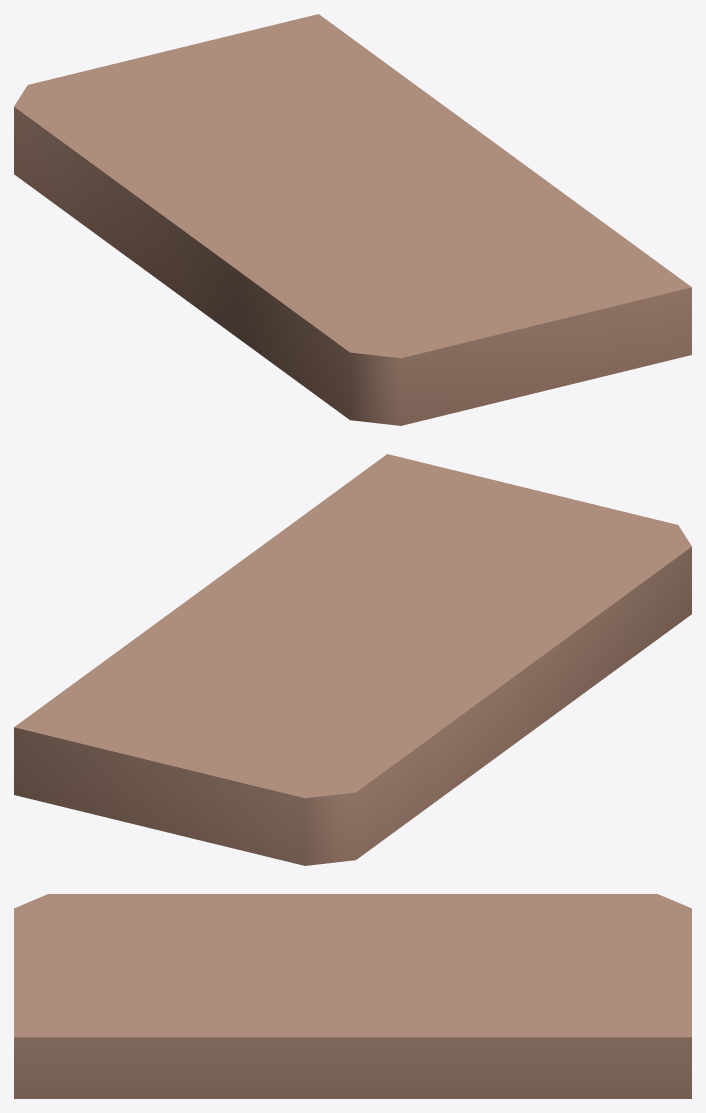
File: surfaces-half-surface.glb
3 renders of one model, top to bottom at view 1: azimuth 30°, elevation 25°; view 2: azimuth 150°, elevation 25°; view 3: azimuth 270°, elevation 25°, orthographic. The views are drawn at different scales.
Parts seen in each view (by area): view 1: surfaces-half-surface; view 2: surfaces-half-surface; view 3: surfaces-half-surface.
Boxes of the visible parts, <box> form: surfaces-half-surface: <box>14,14,691,425</box>; surfaces-half-surface: <box>14,454,691,865</box>; surfaces-half-surface: <box>14,894,691,1098</box>.
Size of the model in its own units: 0.5 by 0.1 by 1.
